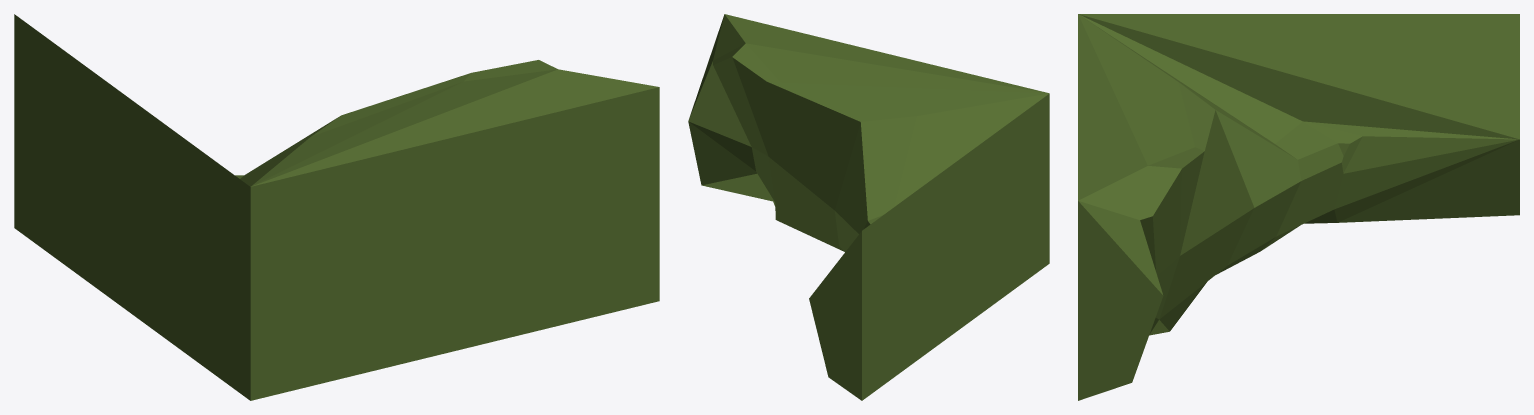
Rendered from LightVegetationEdgeMediumInternalCurve2.fbx.
3 views of the same model, side by side, from view 1: azimuth 30°, elevation 25°; view 2: azimuth 150°, elevation 25°; view 3: azimuth 270°, elevation 25° (orthographic). The views are drawn at different scales.
Parts seen in each view (by area): view 1: LightVegetationEdgeEdgeMediumInternalCurve2; view 2: LightVegetationEdgeEdgeMediumInternalCurve2; view 3: LightVegetationEdgeEdgeMediumInternalCurve2.
Boxes of the visible parts, <box> form: LightVegetationEdgeEdgeMediumInternalCurve2: <box>14,14,659,400</box>; LightVegetationEdgeEdgeMediumInternalCurve2: <box>688,14,1049,400</box>; LightVegetationEdgeEdgeMediumInternalCurve2: <box>1078,14,1519,400</box>.
Bounding box in the file's own units: 400 × 206 × 400.
